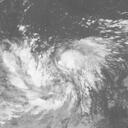cyclone: (56, 42, 88, 78)
